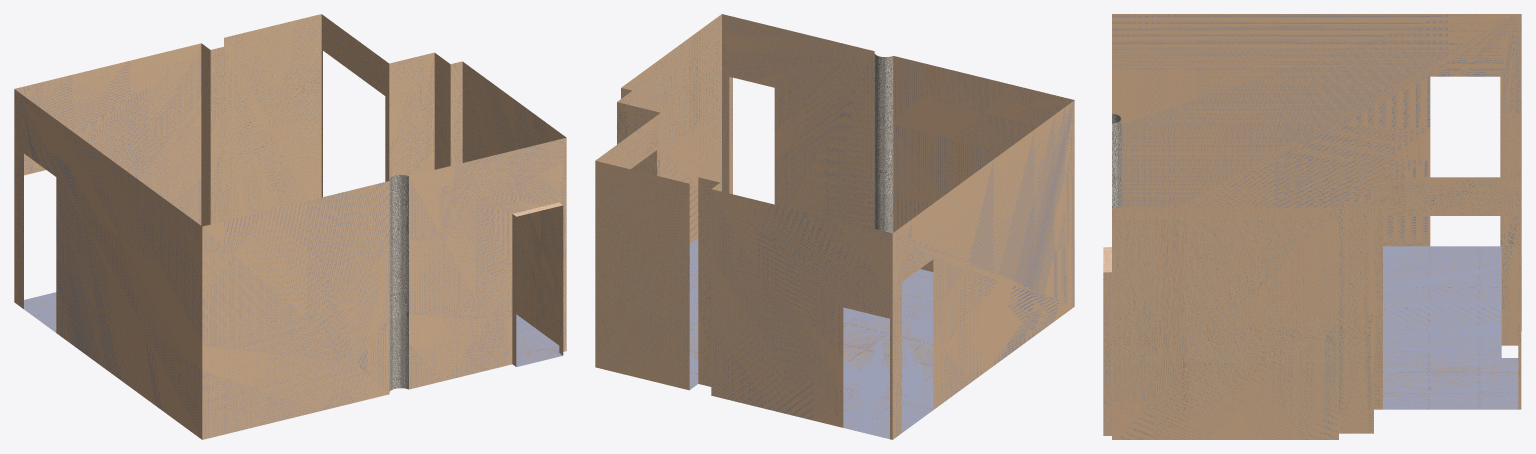
File: COM011.obj
3 renders of one model, left to right at view 1: azimuth 30°, elevation 25°; view 2: azimuth 150°, elevation 25°; view 3: azimuth 270°, elevation 25°, orthographic. The views are drawn at different scales.
Parts seen in each view (by area): view 1: Mesh1 COM011 Model; view 2: Mesh1 COM011 Model; view 3: Mesh1 COM011 Model.
Boxes of the visible parts, x1,y1,x2,y2 form: Mesh1 COM011 Model: (14, 14, 566, 439); Mesh1 COM011 Model: (595, 14, 1074, 439); Mesh1 COM011 Model: (1103, 14, 1521, 439).
Bounding box in the file's own units: 6.43 × 3.6 × 5.87.
4 materials, 2 textured.
